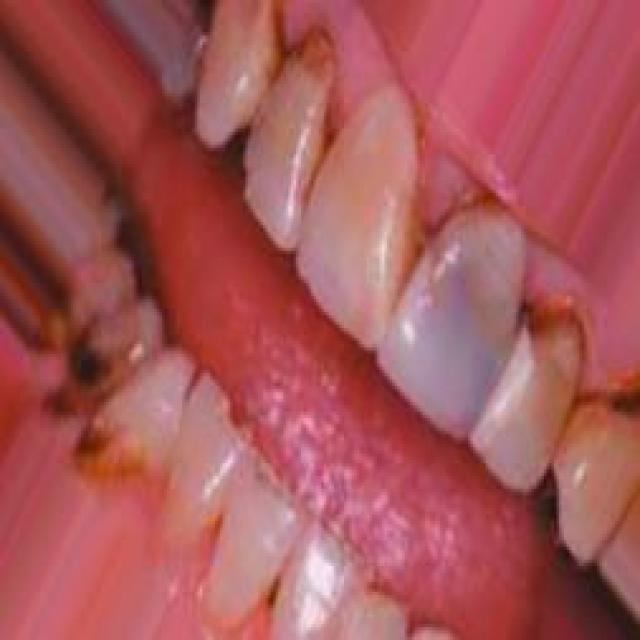caries: (282, 12, 358, 118), (48, 320, 127, 416), (66, 414, 152, 496), (518, 273, 575, 361), (582, 356, 640, 442)
